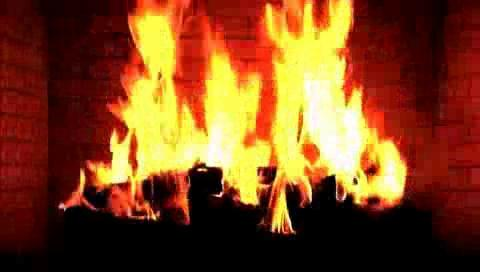fire: (76, 0, 480, 233)
